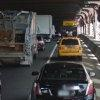Car: (29, 58, 100, 100)
